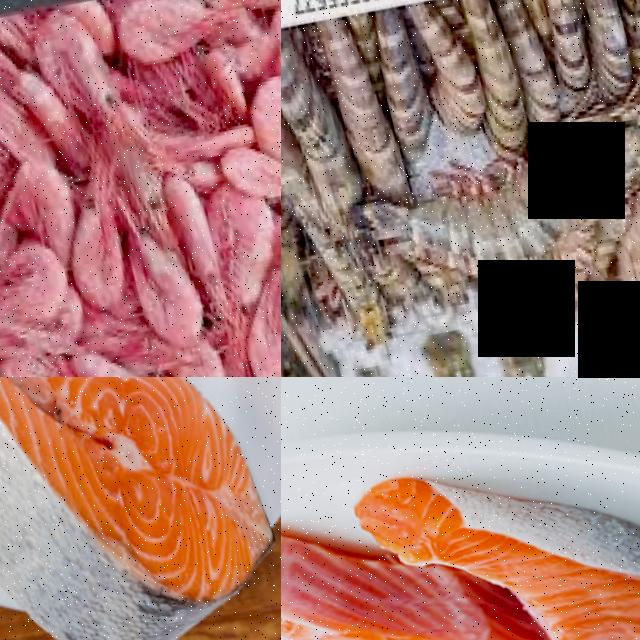salmon: (281, 412, 640, 640), (0, 377, 281, 632)
shrimp: (396, 138, 640, 287), (320, 12, 397, 183), (21, 3, 124, 130), (112, 217, 202, 358), (281, 30, 354, 188), (406, 0, 488, 140), (366, 8, 436, 158), (461, 0, 528, 153), (50, 200, 133, 316), (104, 0, 221, 69), (497, 0, 555, 119), (1, 157, 77, 247), (221, 264, 281, 377), (536, 0, 599, 101), (0, 234, 71, 323), (573, 0, 635, 98), (212, 135, 281, 209), (234, 70, 281, 153), (608, 0, 640, 78)
